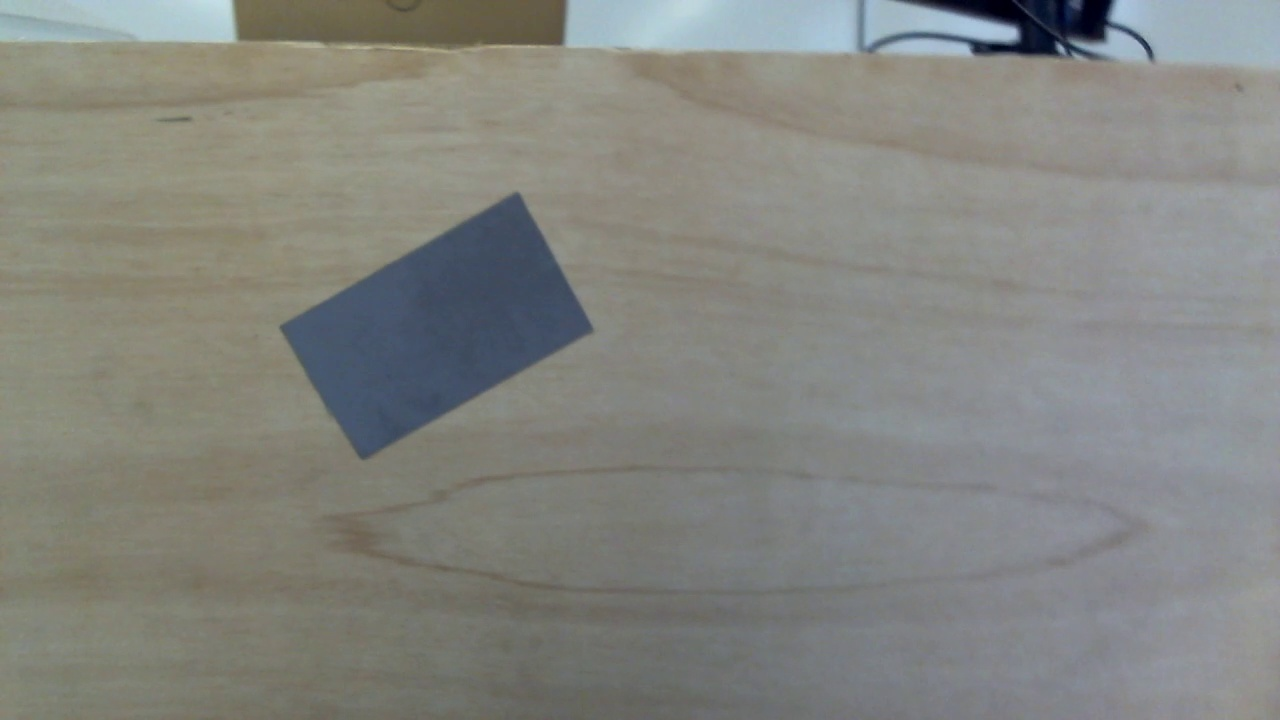Tape: (276, 188, 597, 458)
